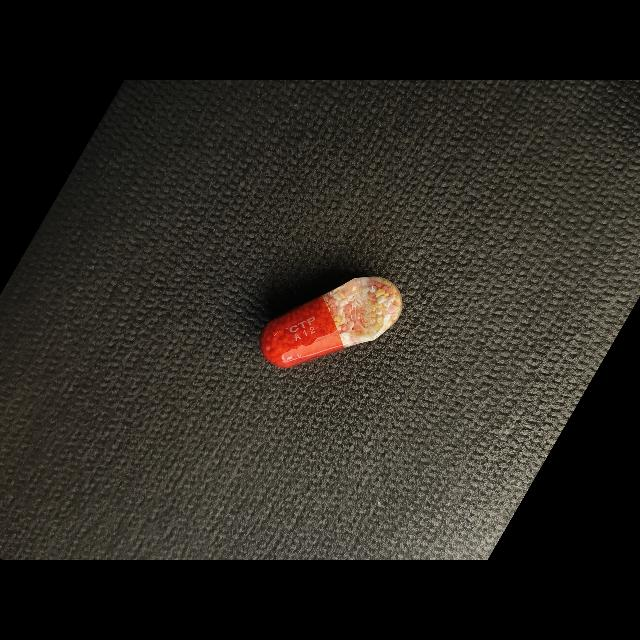Defective Capsule: (260, 277, 402, 368)
